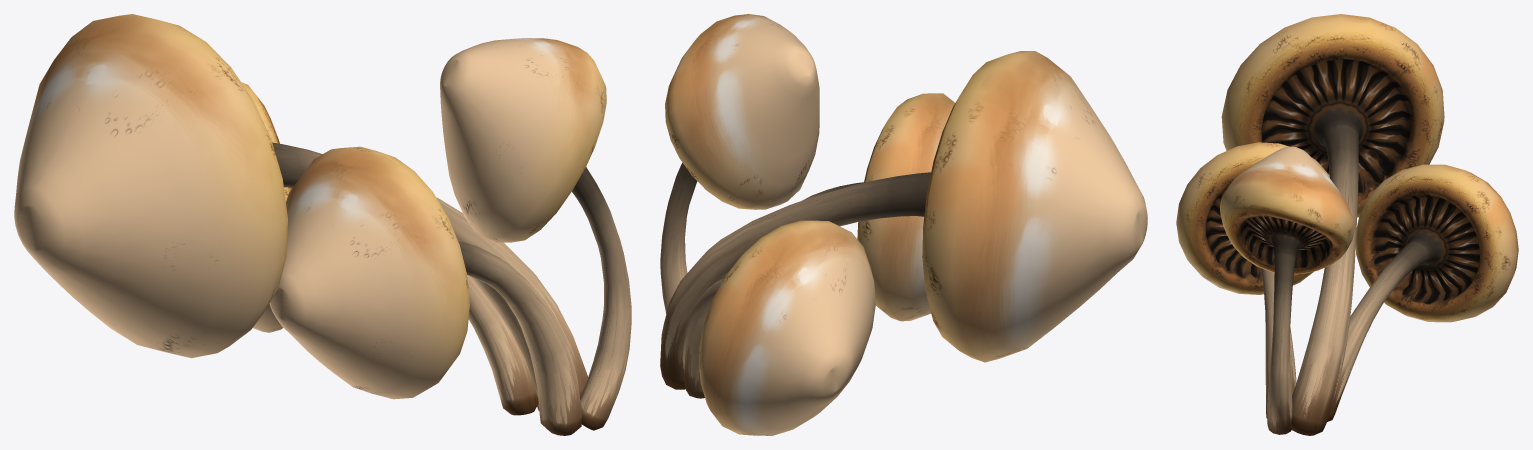
The model's file is Wald_Pilz_set.FBX.
3 views of the same model, side by side, from view 1: azimuth 30°, elevation 25°; view 2: azimuth 150°, elevation 25°; view 3: azimuth 270°, elevation 25° (orthographic). The views are drawn at different scales.
Visible parts, largest first — view 1: Pilz_90grad; view 2: Pilz_90grad; view 3: Pilz_90grad.
Boxes of the visible parts, x1=… form: Pilz_90grad: x1=14, y1=14, x2=631, y2=435; Pilz_90grad: x1=660, y1=14, x2=1147, y2=435; Pilz_90grad: x1=1176, y1=14, x2=1518, y2=435.
Size of the model in its own units: 298 by 244 by 235.
